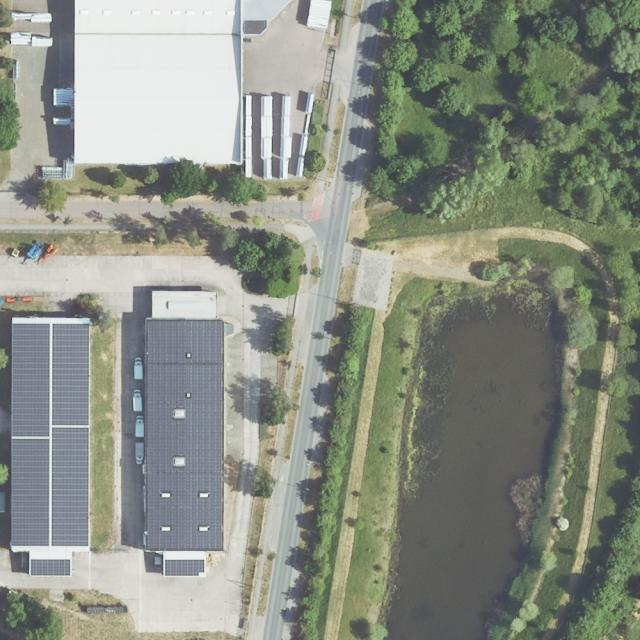PV: (146, 320, 223, 550), (11, 323, 89, 548), (164, 559, 206, 577), (31, 559, 70, 576)
